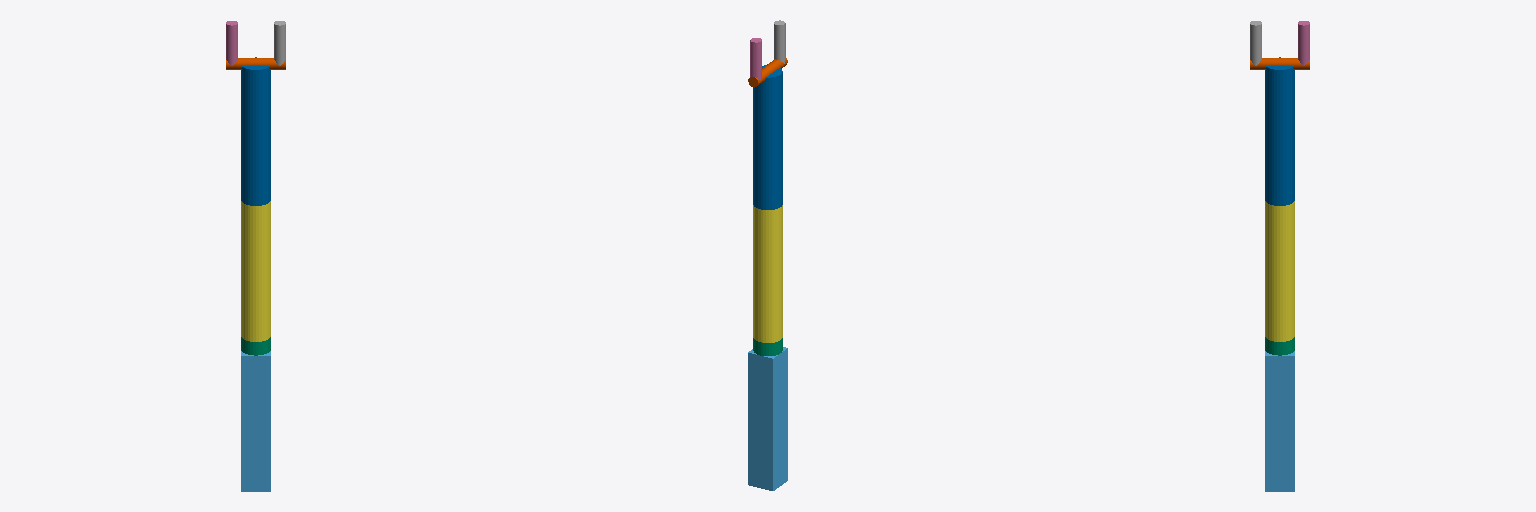
robot.urdf — gripper_robot:
<?xml version="1.0"?>
<robot  name="gripper_robot">

<!-- only movable links have number in the name, like link1, link2 -->
<!-- only movable links have number in the name, like joint1, joint2 -->

<!-- world link -->
<link name="world"/>

<!-- base_link and its fixed joint -->
<joint name="joint_fix" type="fixed">
	<parent link="world"/>
	<child link="base_link"/>
</joint>

<link name="base_link">
	<collision>
		<origin xyz="0 0 0.5" rpy="0 0 0"/>
		<geometry>
			<box size="0.2 0.2 0.7"/>
		</geometry>
	</collision>

	<visual>
		<origin xyz="0 0 0.5" rpy="0 0 0"/>
		<geometry>
			<box size="0.2 0.2 1"/>
		</geometry>
	</visual>

	<inertial>
		<origin xyz="0 0 0.5" rpy="0 0 0"/>
		<mass value="1"/>
		<inertia
			ixx="1.0" ixy="0.0" ixz="0.0"
			iyy="1.0" iyz="0.0"
			izz="1.0"/>
	</inertial>
</link>

<!-- link1 and its revolute joint1 relative to base_link -->
<!-- rotating along z axis -->
<joint name="joint1" type="revolute">
	<parent link="base_link"/>
	<child link="link1"/>
	<origin xyz="0 0 1" rpy="0 0 0"/>
	<axis xyz="0 0 1"/>
	<limit effort="100" velocity="100" lower="-1.5708" upper="1.5708"/>
</joint>

<link name="link1">
	<collision>
		<origin xyz="0 0 0.05" rpy="0 0 0"/>
		<geometry>
			<cylinder length="0.1" radius="0.1"/>
		</geometry>
	</collision>

	<visual>
		<origin xyz="0 0 0.05" rpy="0 0 0"/>
		<geometry>
			<cylinder length="0.1" radius="0.1"/>
		</geometry>
	</visual>

	<inertial>
		<origin xyz="0 0 0.05" rpy="0 0 0"/>
		<mass value="1"/>
		<inertia
			ixx="0.001" ixy="0.0" ixz="0.0"
			iyy="0.001" iyz="0.0"
			izz="0.001"/>
	</inertial>
</link>

<gazebo reference="link1">
	<material>Gazebo/Grey</material>
</gazebo>

<!-- link2 and its revolute joint2 relative to link1 -->
<!-- rotating along y axis -->
<joint name="joint2" type="revolute">
	<parent link="link1"/>
	<child link="link2"/>
	<origin xyz="0 0 0.1" rpy="0 0 0"/>
	<axis xyz="0 1 0"/>
	<limit effort="100" velocity="100" lower="-0.1" upper="1.5708"/>
</joint>

<link name="link2">
	<collision>
		<origin xyz="0 0 0.5" rpy="0 0 0"/>
		<geometry>
			<cylinder length="1" radius="0.1"/>
		</geometry>
	</collision>

	<visual>
		<origin xyz="0 0 0.5" rpy="0 0 0"/>
		<geometry>
			<cylinder length="1" radius="0.1"/>
		</geometry>
	</visual>

	<inertial>
		<origin xyz="0 0 0.5" rpy="0 0 0"/>
		<mass value="1"/>
		<inertia
			ixx="0.1" ixy="0.0" ixz="0.0"
			iyy="0.1" iyz="0.0"
			izz="0.005"/>
	</inertial>
</link>

<gazebo reference="link2">
	<material>Gazebo/Grey</material>
</gazebo>

<!-- link3 and its revolute joint3 relative to link2 -->
<!-- rotating along y axis -->
<joint name="joint3" type="revolute">
	<parent link="link2"/>
	<child link="link3"/>
	<origin xyz="0 0 1" rpy="0 0 0"/>
	<axis xyz="0 1 0"/>
	<limit effort="100" velocity="100" lower="-0.1" upper="3.1416"/>
</joint>

<link name="link3">
	<collision>
		<origin xyz="0 0 0.5" rpy="0 0 0"/>
		<geometry>
			<cylinder length="1" radius="0.1"/>
		</geometry>
	</collision>

	<visual>
		<origin xyz="0 0 0.5" rpy="0 0 0"/>
		<geometry>
			<cylinder length="1" radius="0.1"/>
		</geometry>
	</visual>

	<inertial>
		<origin xyz="0 0 0.5" rpy="0 0 0"/>
		<mass value="1"/>
		<inertia
			ixx="0.1" ixy="0.0" ixz="0.0"
			iyy="0.1" iyz="0.0"
			izz="0.005"/>
	</inertial>
</link>

<gazebo reference="link3">
	<material>Gazebo/Grey</material>
</gazebo>

<!-- link4 and its revolute joint4 relative to link3 -->
<!-- rotating along y axis -->
<joint name="joint4" type="revolute">
	<parent link="link3"/>
	<child link="link4"/>
	<origin xyz="0 0 1" rpy="0 0 0"/>
	<axis xyz="0 1 0"/>
	<limit effort="100" velocity="100" lower="-1.5708" upper="1.5708"/>
</joint>

<link name="link4">
	<collision>
		<origin xyz="0 0 0" rpy="1.5708 0 0"/>
		<geometry>
			<cylinder length="0.4" radius="0.04"/>
		</geometry>
	</collision>

	<visual>
		<origin xyz="0 0 0" rpy="1.5708 0 0"/>
		<geometry>
			<cylinder length="0.4" radius="0.04"/>
		</geometry>
	</visual>

	<inertial>
		<origin xyz="0 0 0" rpy="1.5708 0 0"/>
		<mass value="0.4"/>
		<inertia
			ixx="0.05" ixy="0.0" ixz="0.0"
			iyy="0.002" iyz="0.0"
			izz="0.05"/>
	</inertial>
</link>

<gazebo reference="link4">
	<material>Gazebo/Red</material>
</gazebo>

<!-- link5 and its prismatic joint5 relative to link4 -->
<!-- translating along y axis -->
<joint name="joint5" type="prismatic">
	<parent link="link4"/>
	<child link="link5"/>
	<origin xyz="0 0.16 0" rpy="0 0 0"/>
	<axis xyz="0 1 0"/>
	<limit effort="100" velocity="100" lower="-0.16" upper="0.0"/>
</joint>

<link name="link5">
	<collision>
		<origin xyz="0 0 0.15" rpy="0 0 0"/>
		<geometry>
			<cylinder length="0.3" radius="0.04"/>
		</geometry>
		<surface>
        <friction>
          <ode>
            <mu>0.01</mu>
            <mu2>0.01</mu2>
          </ode>
        </friction>
      </surface>
	</collision>

	<visual>
		<origin xyz="0 0 0.15" rpy="0 0 0"/>
		<geometry>
			<cylinder length="0.3" radius="0.04"/>
		</geometry>
	</visual>

	<inertial>
		<origin xyz="0 0 0.15" rpy="0 0 0"/>
		<mass value="0.2"/>
		<inertia
			ixx="0.02" ixy="0.0" ixz="0.0"
			iyy="0.02" iyz="0.0"
			izz="0.001"/>
	</inertial>
</link>

<gazebo reference="link5">
	<material>Gazebo/Red</material>
</gazebo>

<!-- link6 and its prismatic joint6 relative to link4 -->
<!-- translating along y axis -->
<joint name="joint6" type="prismatic">
	<parent link="link4"/>
	<child link="link6"/>
	<origin xyz="0 -0.16 0" rpy="0 0 0"/>
	<axis xyz="0 1 0"/>
	<limit effort="100" velocity="100" lower="0.0" upper="0.16"/>
</joint>

<link name="link6">
	<collision>
		<origin xyz="0 0 0.15" rpy="0 0 0"/>
		<geometry>
			<cylinder length="0.3" radius="0.04"/>
		</geometry>
		<surface>
        <friction>
          <ode>
            <mu>0.01</mu>
            <mu2>0.01</mu2>
          </ode>
        </friction>
      </surface>
	</collision>

	<visual>
		<origin xyz="0 0 0.15" rpy="0 0 0"/>
		<geometry>
			<cylinder length="0.3" radius="0.04"/>
		</geometry>
	</visual>

	<inertial>
		<origin xyz="0 0 0.15" rpy="0 0 0"/>
		<mass value="0.2"/>
		<inertia
			ixx="0.02" ixy="0.0" ixz="0.0"
			iyy="0.02" iyz="0.0"
			izz="0.001"/>
	</inertial>
</link>

<gazebo reference="link6">
	<material>Gazebo/Red</material>
</gazebo>

<gazebo>
   <plugin name="gazebo_grasp_fix" filename="libgazebo_grasp_fix.so">
        <arm>
           <arm_name>gripper_robot</arm_name>
           <palm_link>link4</palm_link>
           <gripper_link>link5</gripper_link>
           <gripper_link>link6</gripper_link>
        </arm>
       <forces_angle_tolerance>100</forces_angle_tolerance>
       <update_rate>4</update_rate>
       <grip_count_threshold>4</grip_count_threshold>
       <max_grip_count>8</max_grip_count>
       <release_tolerance>0.01</release_tolerance>
       <disable_collisions_on_attach>true</disable_collisions_on_attach>
       <contact_topic>__default_topic__</contact_topic>
    </plugin>
</gazebo>
</robot>

--- Render facts (derived) ---
Views: 3 orthographic renders of the robot side by side, from view 1: azimuth 90°, elevation 25°; view 2: azimuth 150°, elevation 25°; view 3: azimuth 270°, elevation 25°.
Model gripper_robot with 8 links and 7 joints (4 revolute, 2 prismatic, 1 fixed), rooted at world, posed all joints at 0.
Links seen in each view (by area): view 1: link3, base_link, link2; view 2: base_link, link2, link3; view 3: link3, base_link, link2.
Boxes of the visible links, bbox=[...] form: link3: bbox=[241, 57, 270, 205]; base_link: bbox=[241, 351, 270, 491]; link2: bbox=[241, 201, 270, 341]; base_link: bbox=[748, 347, 787, 490]; link2: bbox=[753, 205, 782, 342]; link3: bbox=[753, 65, 782, 209]; link3: bbox=[1265, 57, 1294, 205]; base_link: bbox=[1265, 351, 1294, 491]; link2: bbox=[1265, 201, 1294, 341].
Bounding box of the posed robot: 0.2 × 0.4 × 3.4 m (x, y, z).
Geometry: primitives only (box / cylinder / sphere), no mesh files.
